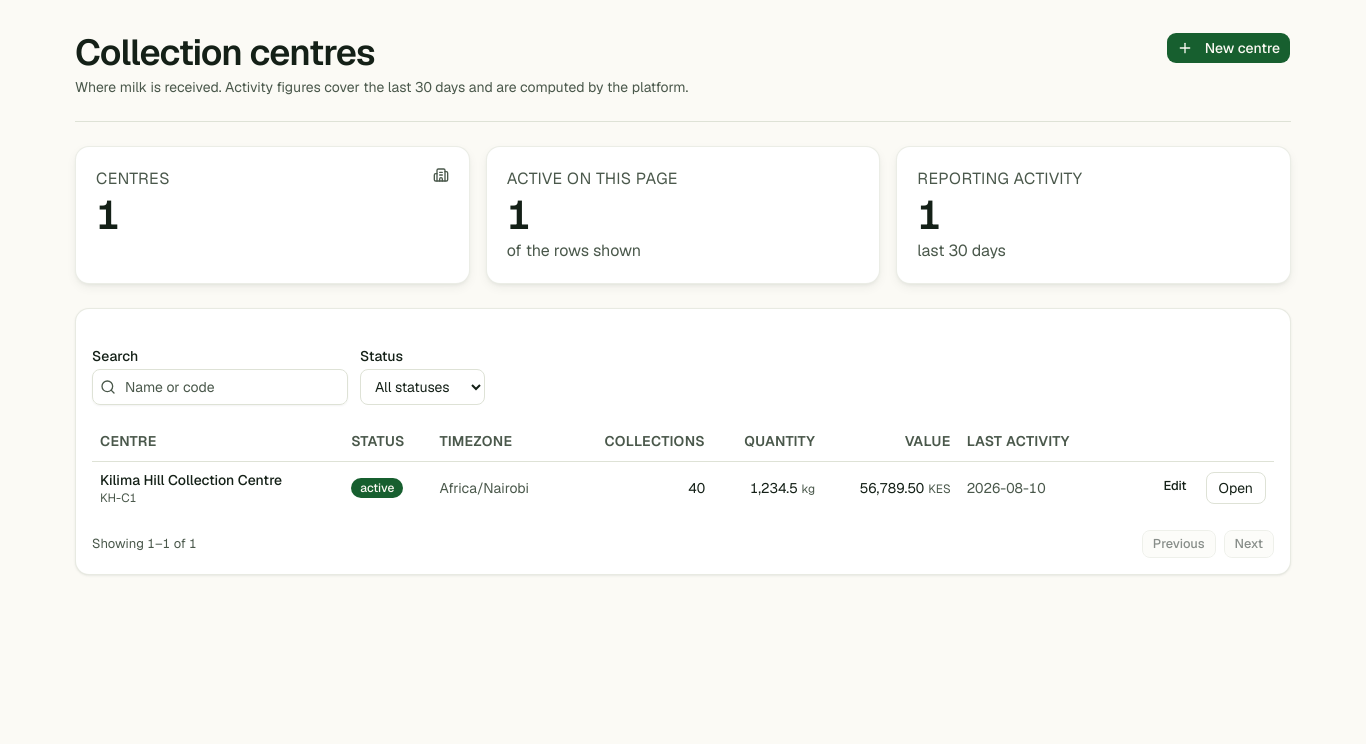
centres list › validates the form before asking the platform
Expected: the link "Kilima Hill Collection Centre" is shown, [100, 471, 282, 489]
Click the button "New centre" at x=1228, y=48, box [1166, 32, 1291, 64]
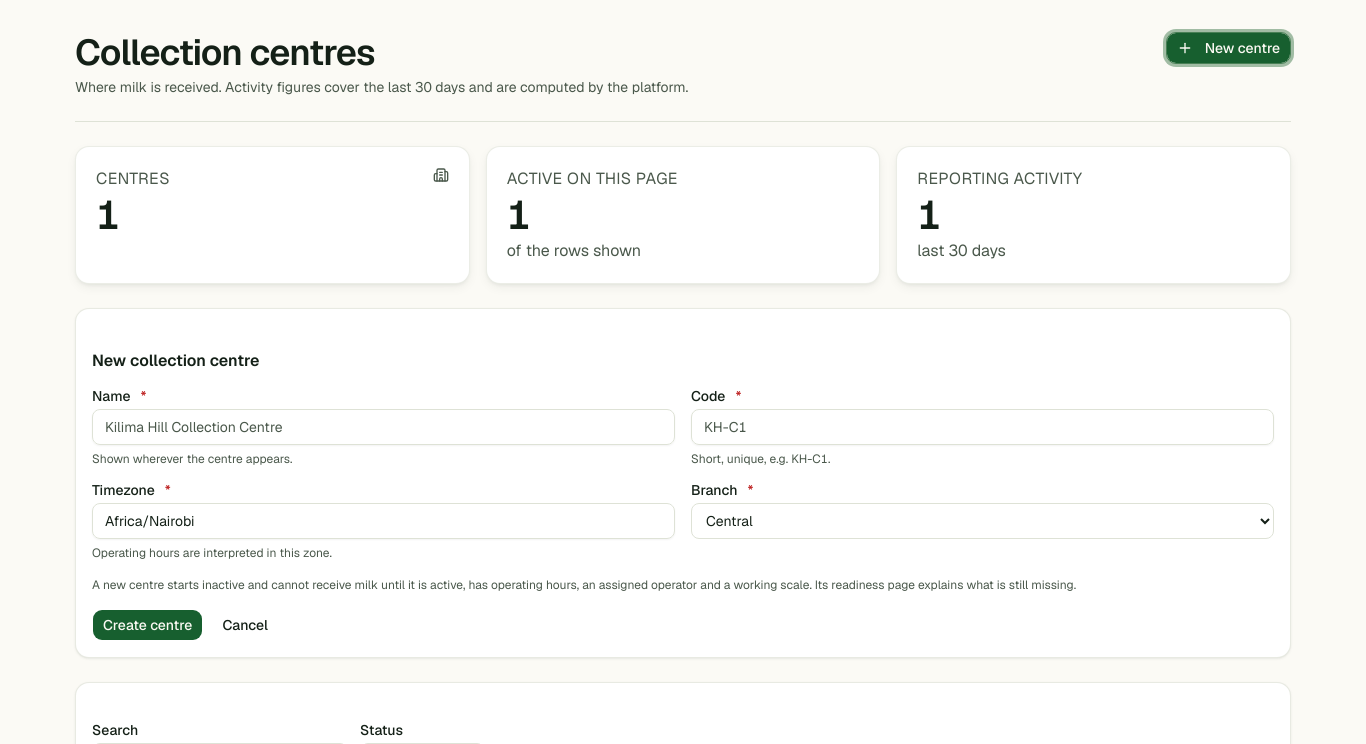
Click the button "Create centre" at x=148, y=625, box [92, 609, 203, 641]
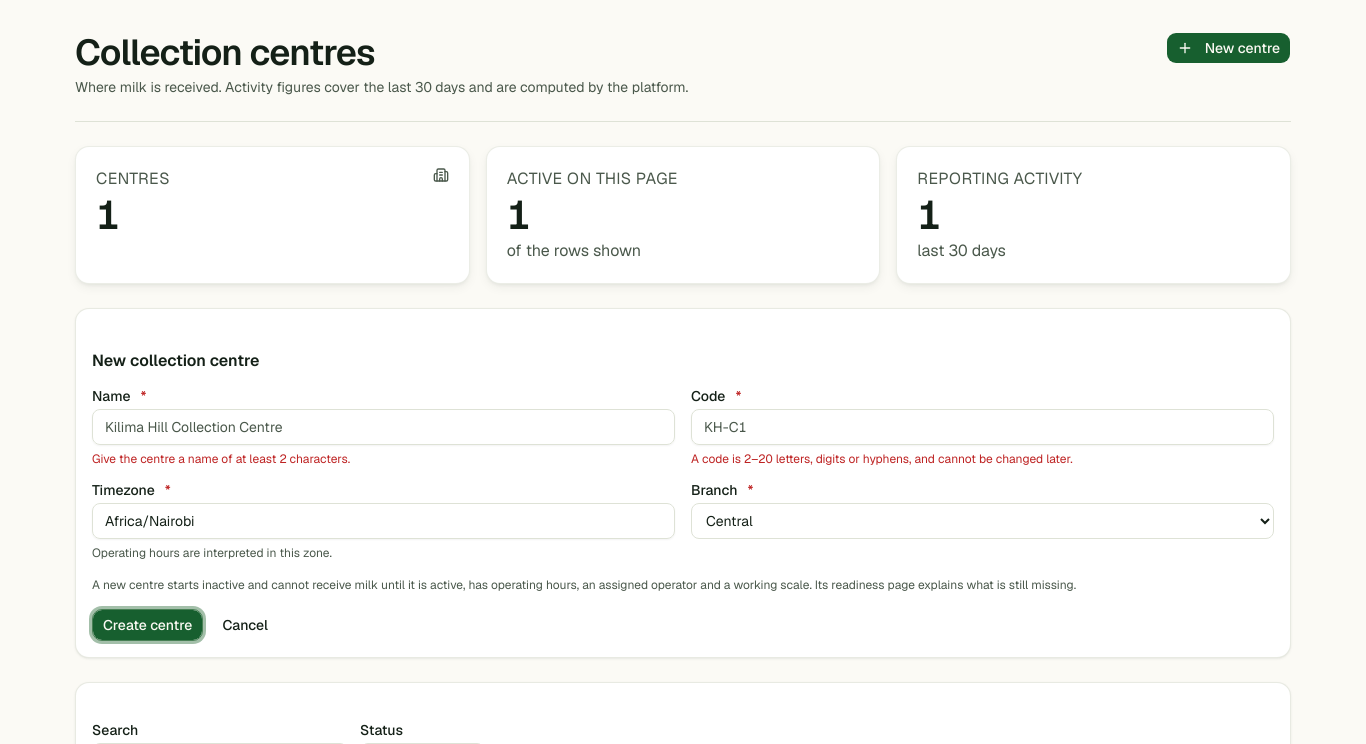
Now the text "Give the centre a name of at least 2 characters." is shown, box [92, 451, 350, 467]
